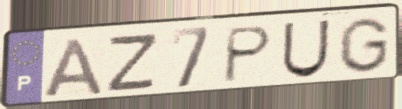7: (170, 24, 211, 92)
A: (41, 36, 107, 99)
G: (336, 16, 391, 75)
P: (220, 24, 276, 85)
U: (279, 18, 333, 81)
Z: (103, 31, 161, 94)
